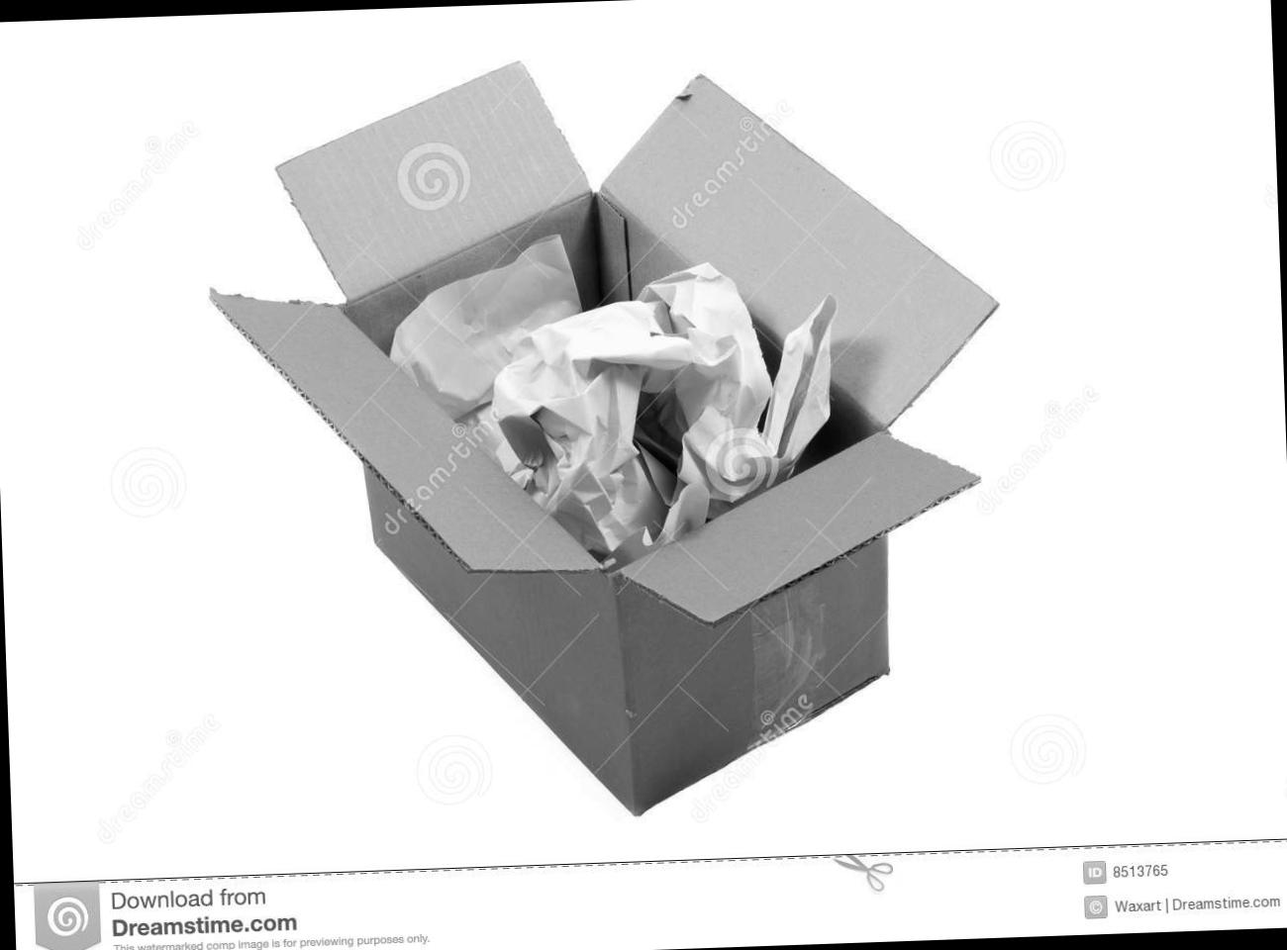cardboard: (207, 31, 1019, 832)
